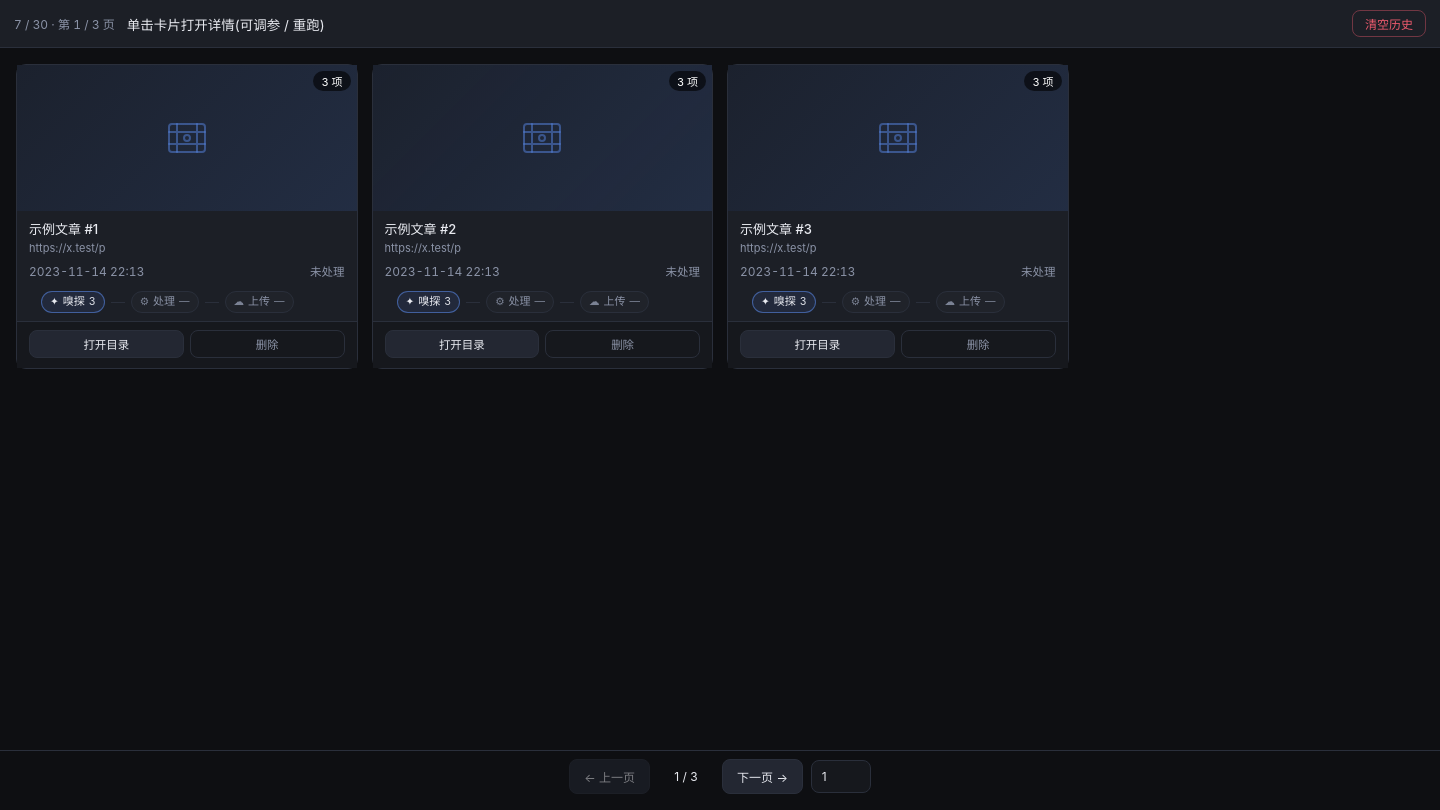
Test: HistoryPanel pagination (R-84) › paginates: only the first page is visible until ▶ is clicked
Check: the text "示例文章 #1" is shown, box 29,220 -> 98,236
Check: the text "示例文章 #3" is shown, box 740,220 -> 812,236
Click the button labelled "下一页 →": (762, 776) 722,759 -> 803,794
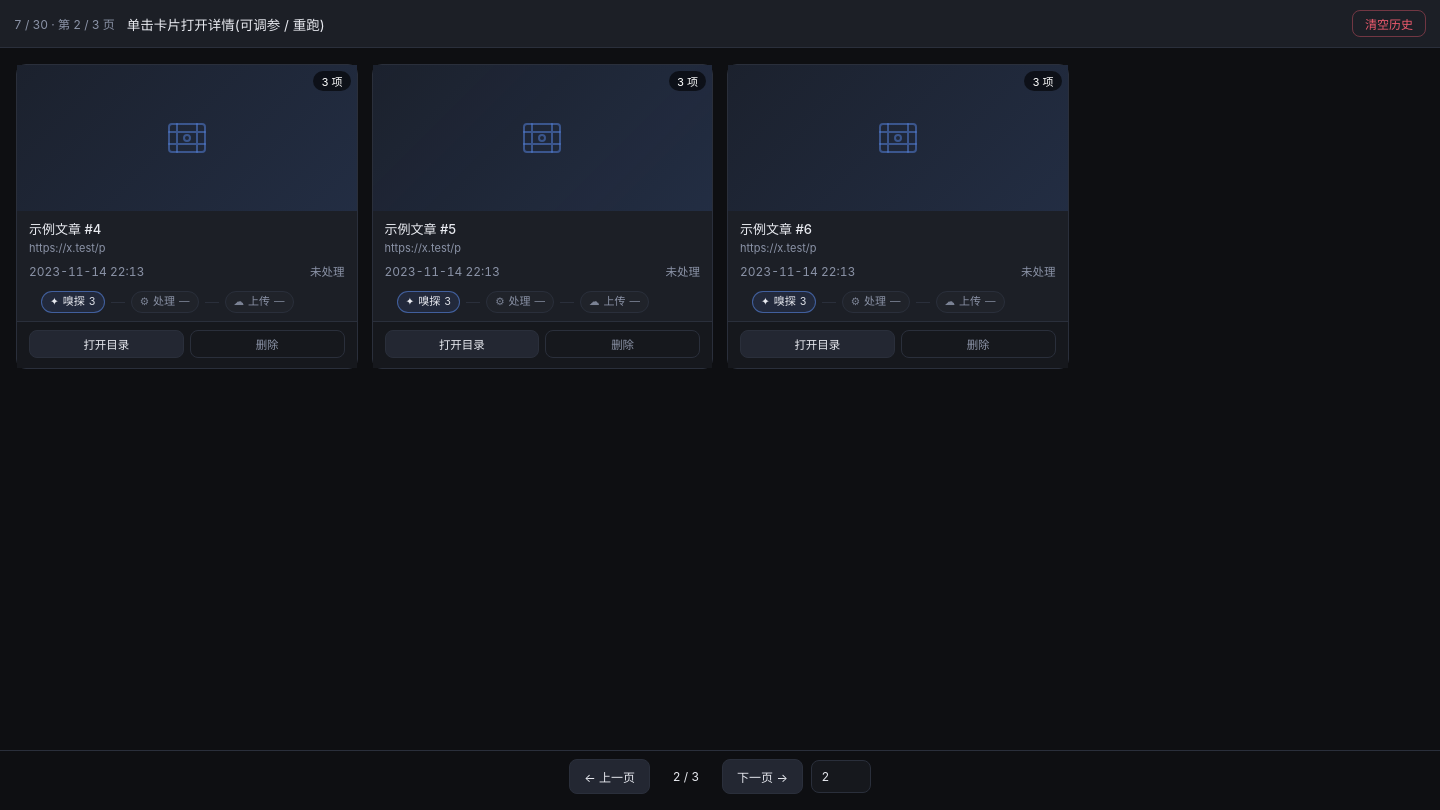
Check: the text "示例文章 #4" is shown, box 29,220 -> 101,236
Check: the text "示例文章 #6" is shown, box 740,220 -> 812,236
Check: the button "示例文章 #1" is gone
